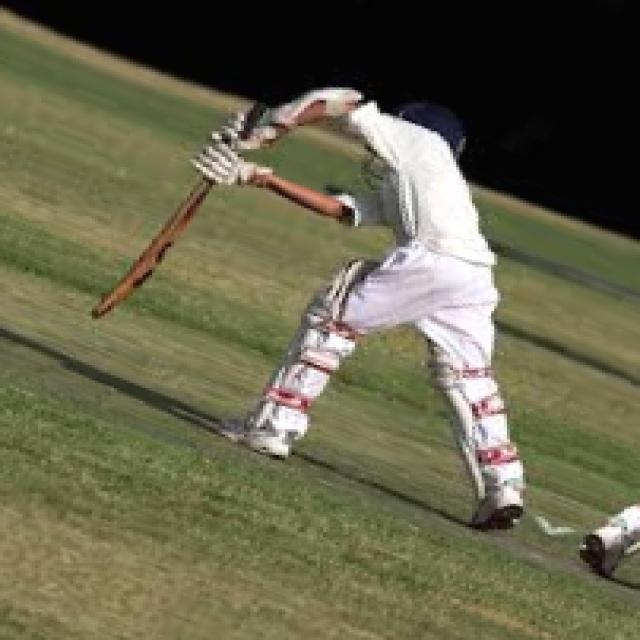bat: (77, 183, 220, 328)
toe: (84, 308, 110, 319)
